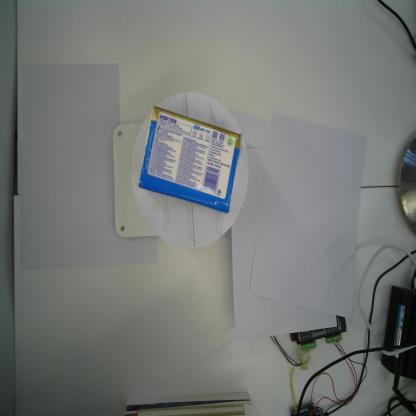Tissue: (138, 106, 244, 215)
